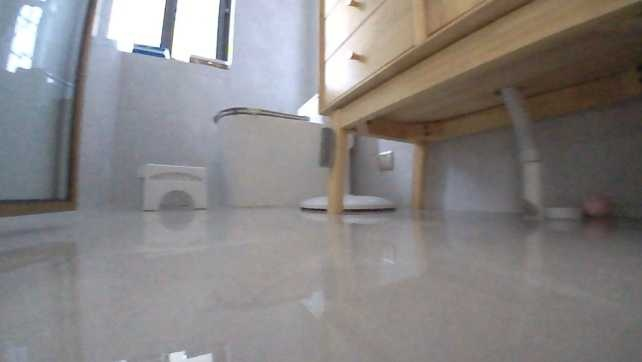plastic_stool: (135, 160, 209, 213)
toilet: (210, 87, 336, 210)
washstand: (312, 0, 640, 216)
